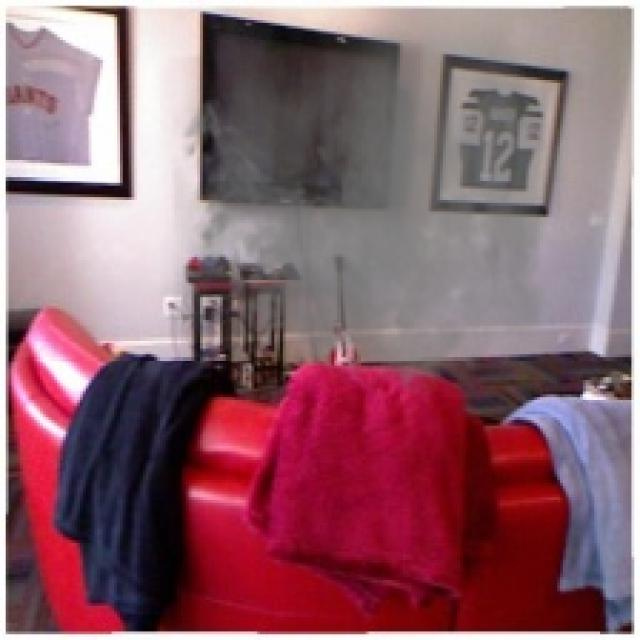smoke: (172, 6, 568, 408)
